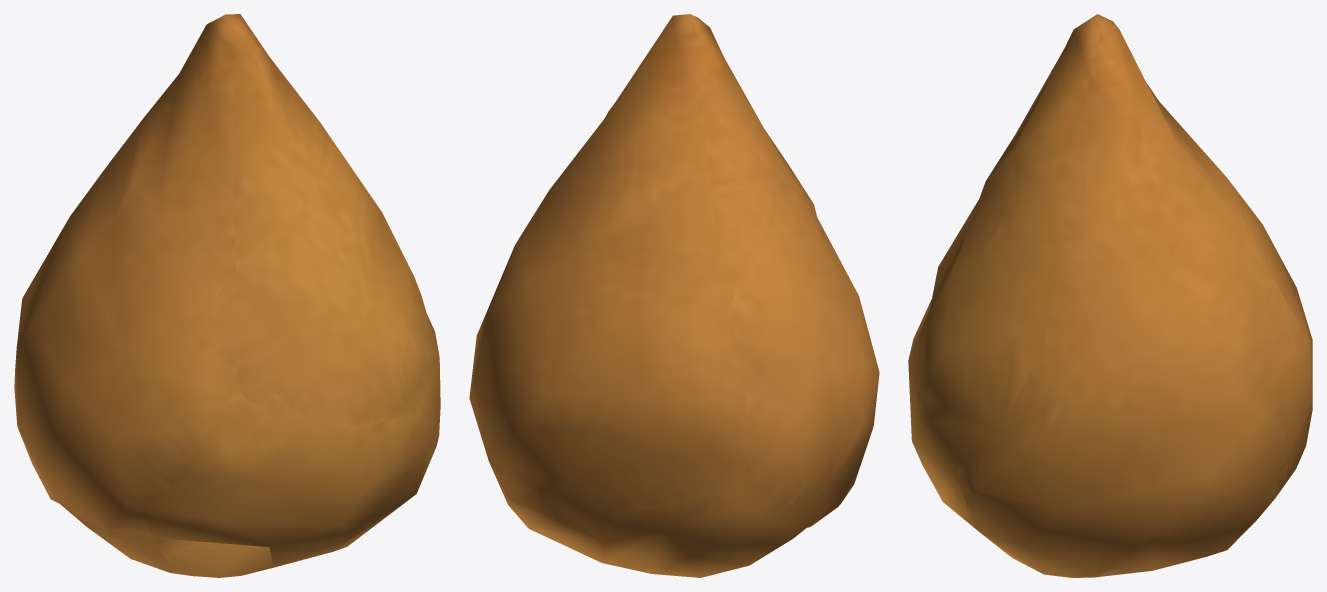
The model's file is coxinha-decor.glb.
3 views of the same model, side by side, from view 1: azimuth 30°, elevation 25°; view 2: azimuth 150°, elevation 25°; view 3: azimuth 270°, elevation 25° (orthographic). The views are drawn at different scales.
Visible parts, largest first — view 1: Coxinha; view 2: Coxinha; view 3: Coxinha.
Part boxes in pixels (x1,y1,x2,y2): Coxinha: [14, 14, 440, 577]; Coxinha: [469, 14, 879, 577]; Coxinha: [908, 14, 1312, 577].
Size of the model in its own units: 0.0546 by 0.0795 by 0.0544.
1 material, 1 textured.
